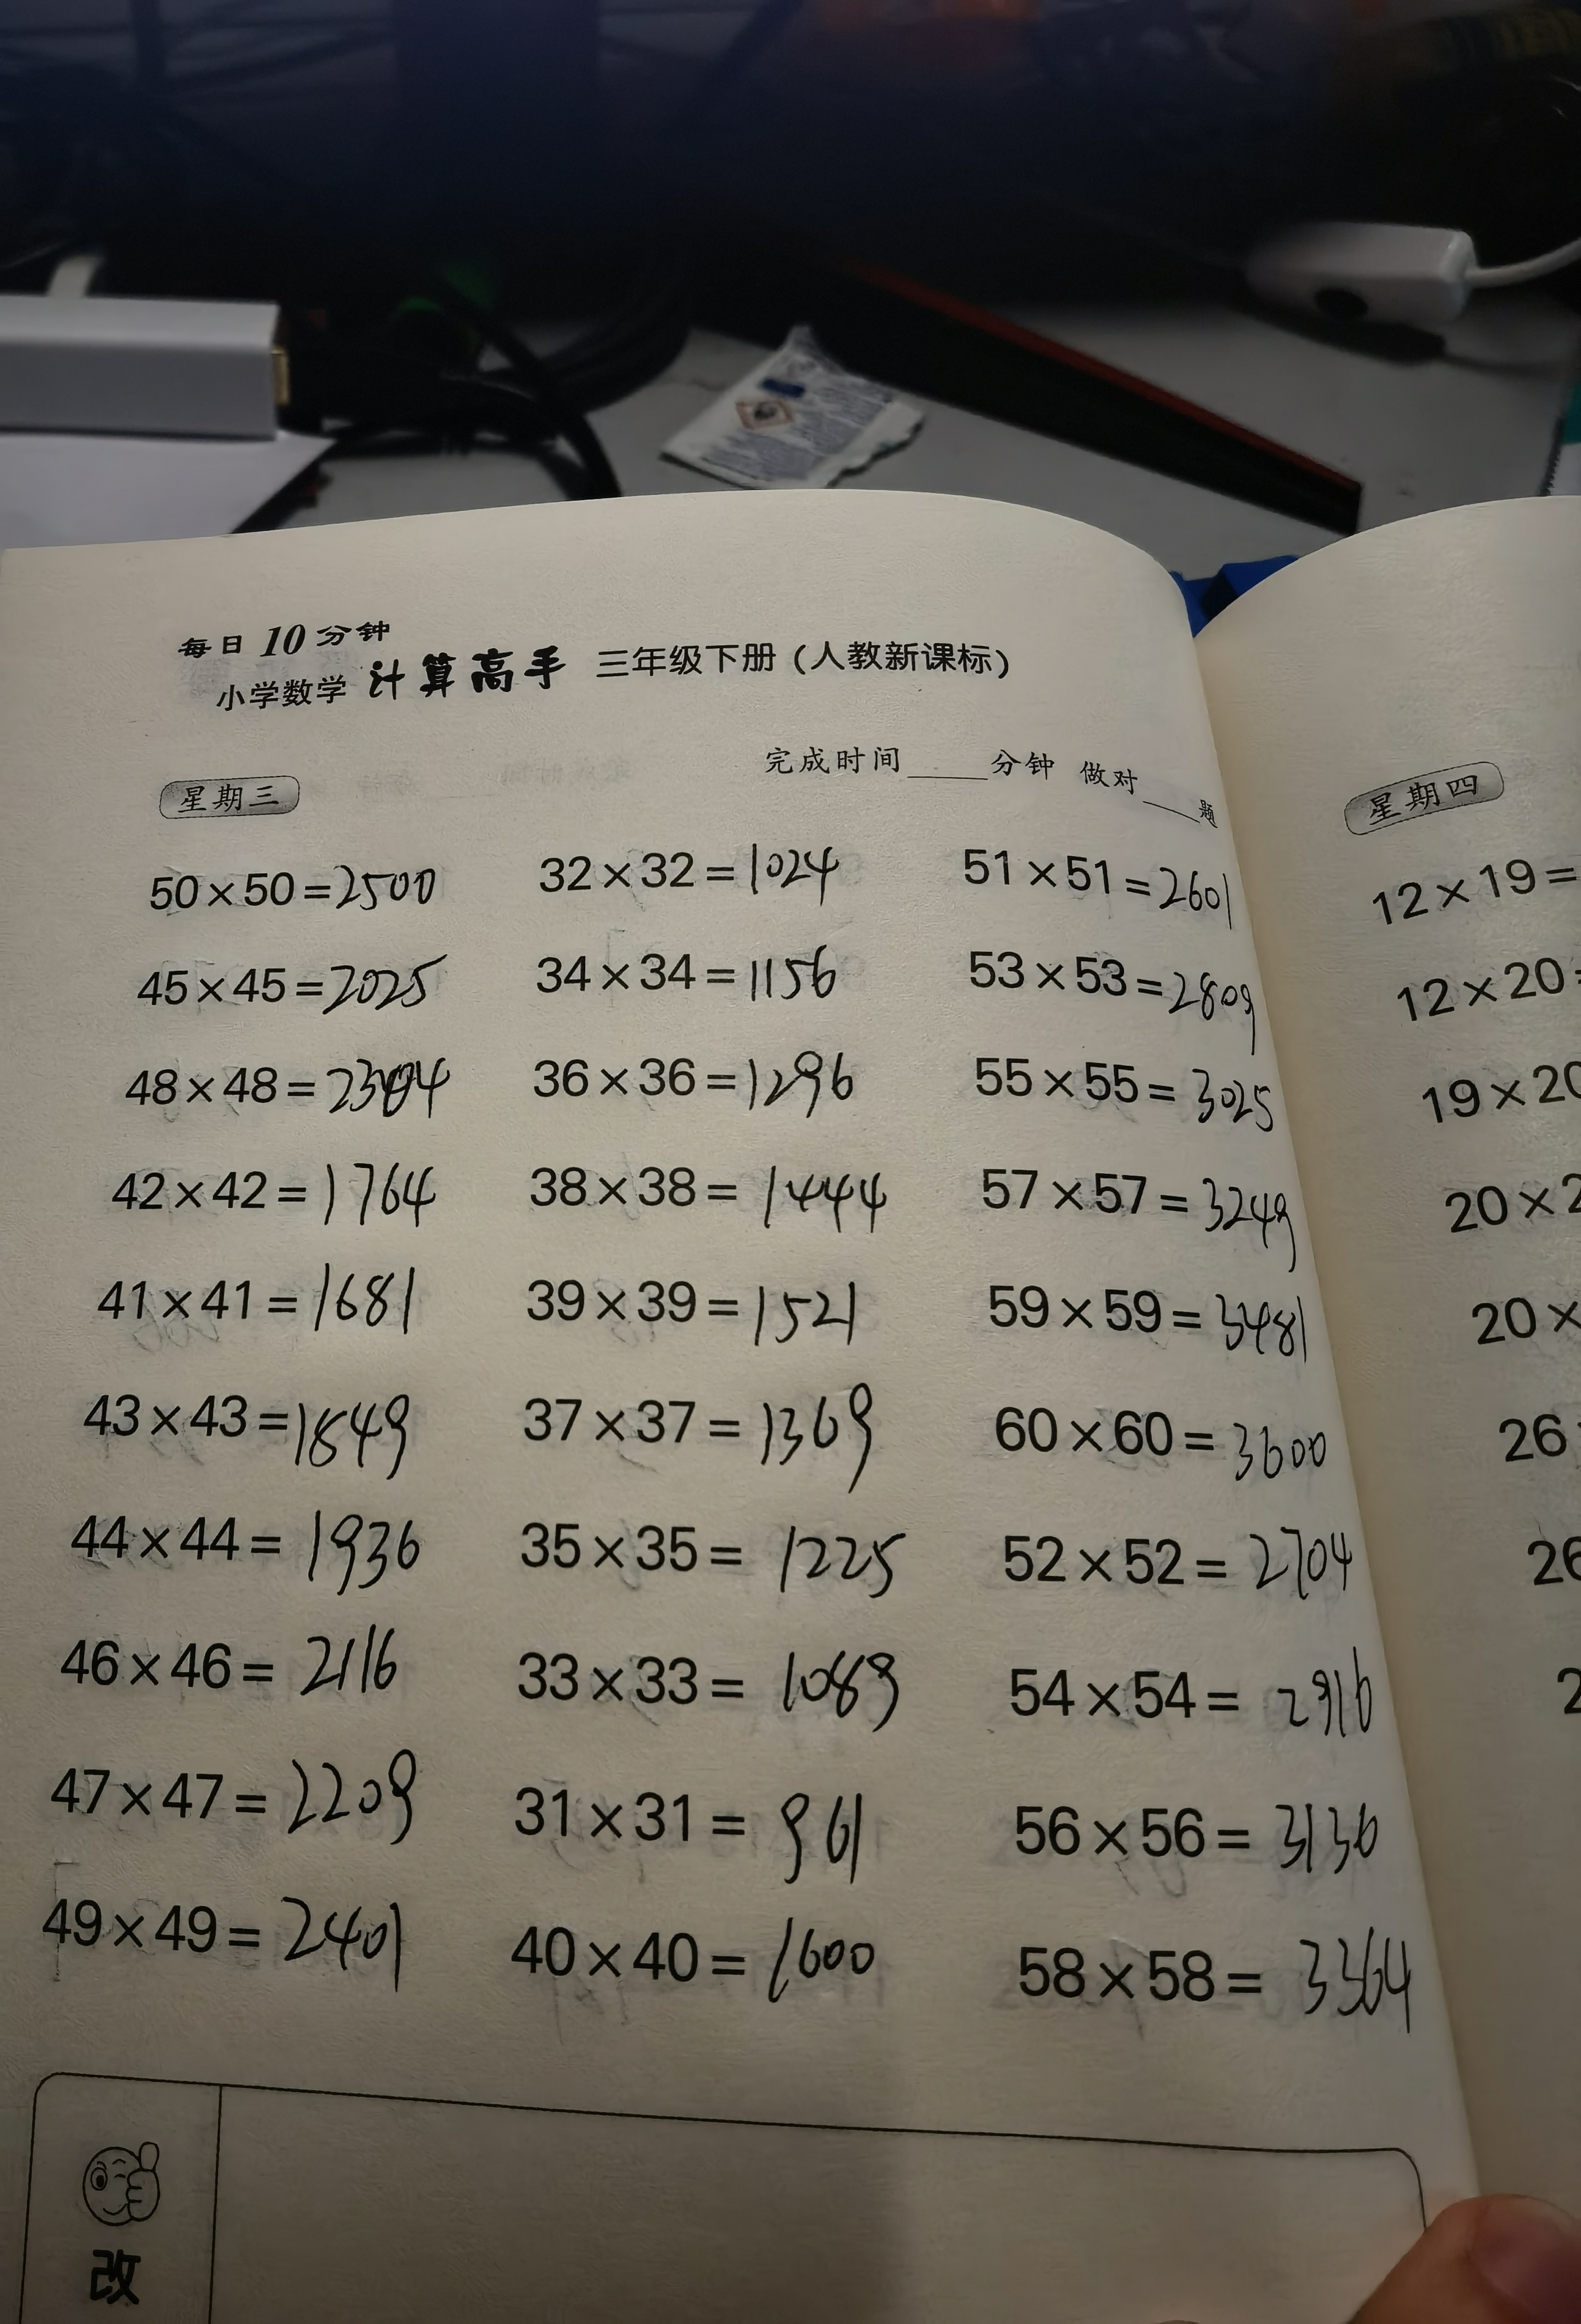equation: (972, 1909, 1449, 2052), (16, 1860, 441, 2010), (498, 1756, 909, 1909), (489, 1893, 898, 2040), (997, 1645, 1415, 1782), (39, 1726, 455, 1860), (517, 1516, 940, 1646), (501, 1373, 910, 1502), (508, 1129, 905, 1260), (90, 1341, 429, 1489), (60, 1484, 432, 1615), (962, 1027, 1306, 1158), (983, 1389, 1352, 1511), (949, 933, 1285, 1061), (978, 1262, 1339, 1378), (499, 1260, 882, 1368), (1009, 1777, 1406, 1879), (79, 1242, 445, 1352), (44, 1613, 455, 1708), (111, 1032, 482, 1133), (505, 1650, 923, 1738), (965, 1165, 1316, 1263), (526, 1032, 882, 1126), (990, 1526, 1390, 1608), (512, 932, 863, 1022), (955, 831, 1256, 933), (101, 1142, 441, 1232), (143, 843, 448, 939), (125, 939, 457, 1023), (503, 835, 863, 909)
